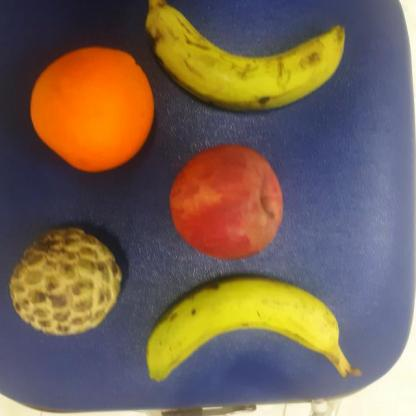annona: (8, 225, 127, 339)
apple: (169, 143, 285, 262)
banana: (143, 0, 348, 118), (146, 274, 354, 384)
orange: (26, 44, 160, 174)
